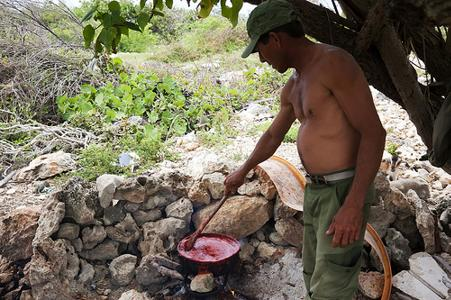person: (223, 2, 386, 300)
